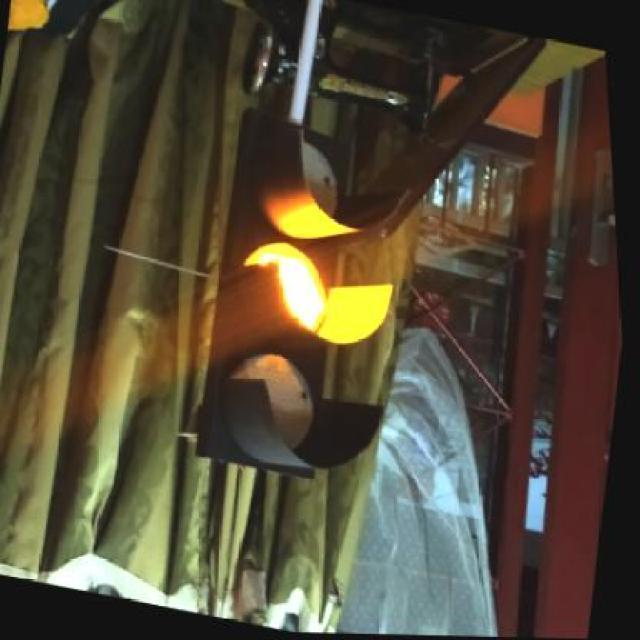yellow_light: (197, 108, 332, 474)
